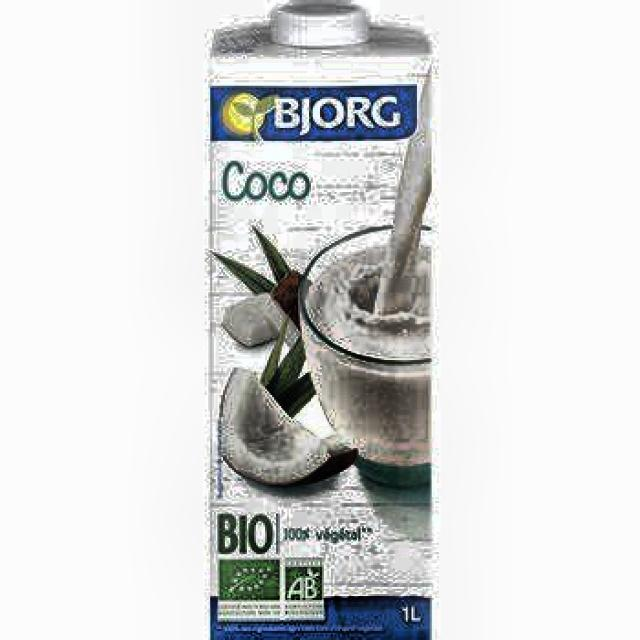cardboard: (204, 0, 436, 638)
